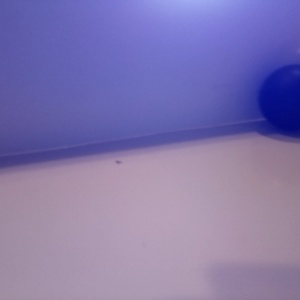dead_ball: (257, 63, 300, 132)
